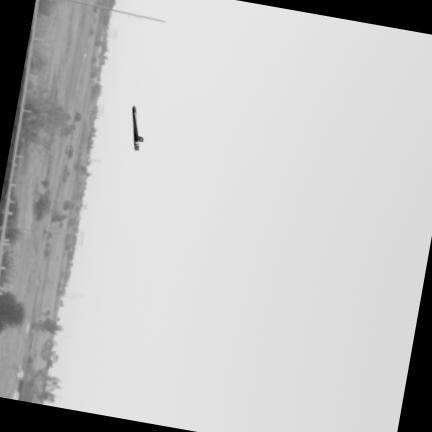Shahed: (131, 105, 143, 150)
